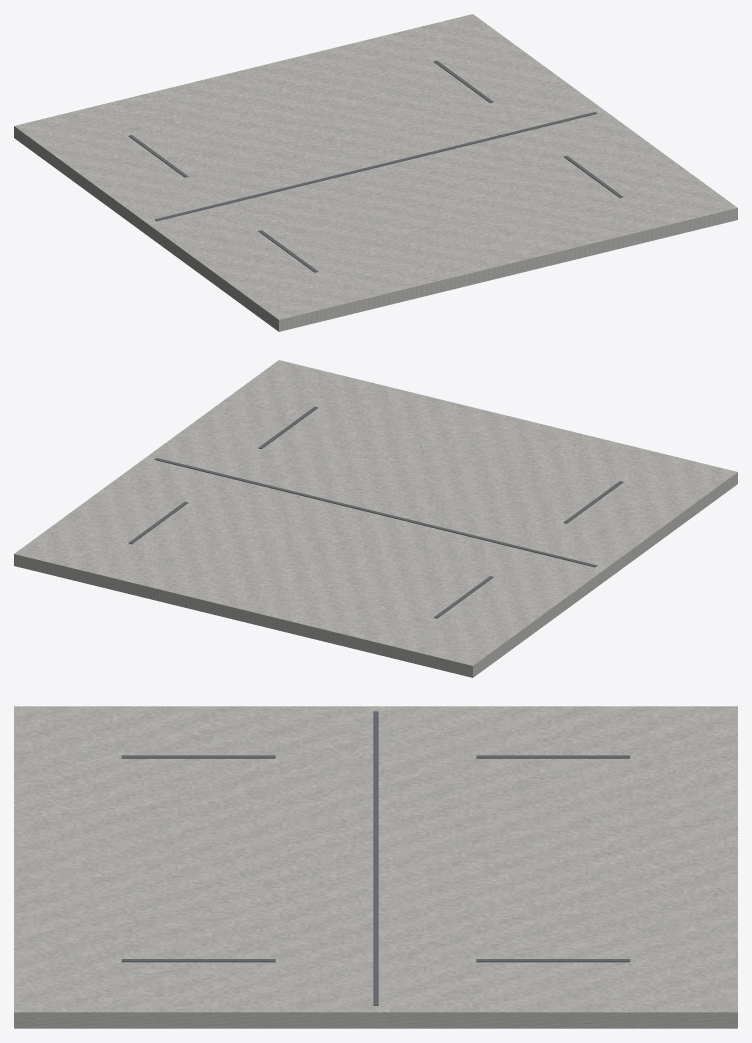
The model's file is recycling-and-waste-transfer-yard-recycling-and-waste--2d36eccf__34891.glb.
3 views of the same model, one above another, from view 1: azimuth 30°, elevation 25°; view 2: azimuth 150°, elevation 25°; view 3: azimuth 270°, elevation 25° (orthographic). The views are drawn at different scales.
Visible parts, largest first — view 1: recycling-and-waste-transfer-yard-yard-ground-tile; view 2: recycling-and-waste-transfer-yard-yard-ground-tile; view 3: recycling-and-waste-transfer-yard-yard-ground-tile.
Part boxes in pixels (left/top/right/bottom): recycling-and-waste-transfer-yard-yard-ground-tile: left=14, top=14, right=737, bottom=331; recycling-and-waste-transfer-yard-yard-ground-tile: left=14, top=360, right=737, bottom=677; recycling-and-waste-transfer-yard-yard-ground-tile: left=14, top=706, right=737, bottom=1028.
Size of the model in its own units: 4 by 0.1061 by 4.
2 materials, 1 textured.
